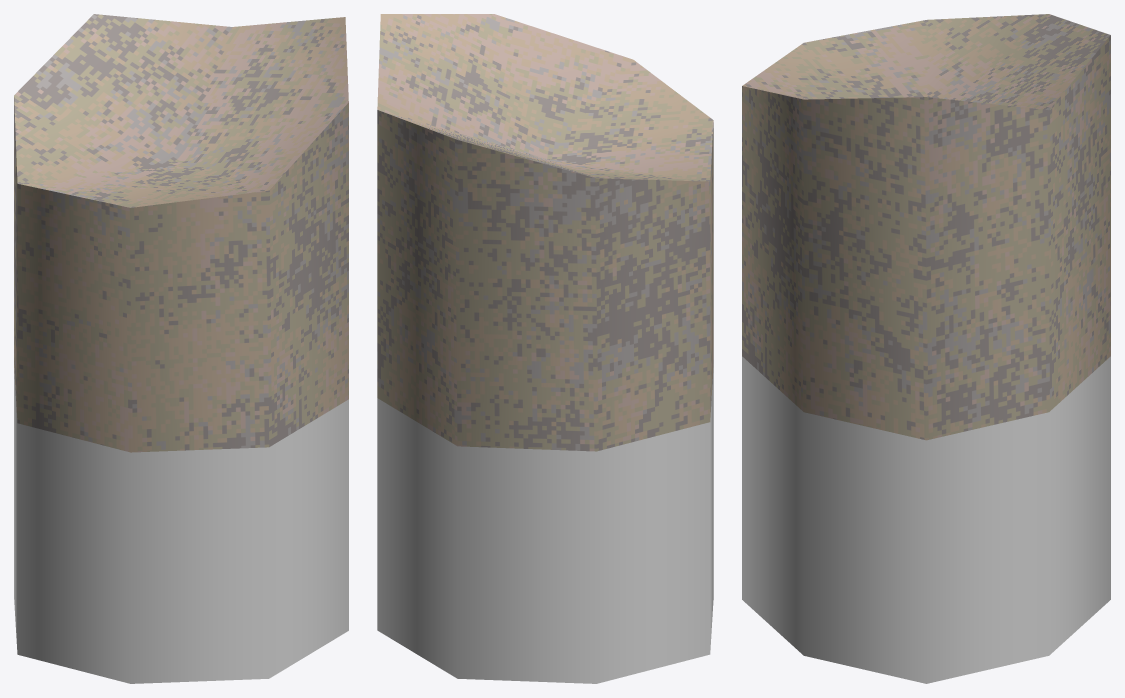
The model's file is BrokenPillar_Bottom.fbx.
3 renders of one model, left to right at view 1: azimuth 30°, elevation 25°; view 2: azimuth 150°, elevation 25°; view 3: azimuth 270°, elevation 25°, orthographic. The views are drawn at different scales.
Visible parts, largest first — view 1: RoundPillar.002; view 2: RoundPillar.002; view 3: RoundPillar.002.
Boxes of the visible parts, box(x1,y1,x2,y2) form: RoundPillar.002: box(14, 14, 348, 683); RoundPillar.002: box(377, 14, 713, 683); RoundPillar.002: box(742, 14, 1110, 683).
Bounding box in the file's own units: 55.05 × 89.43 × 50.94.
